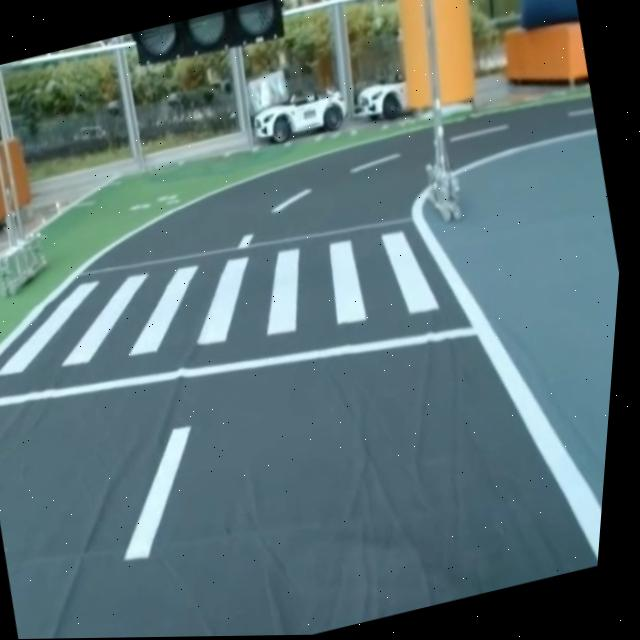traffic-light: (125, 0, 297, 75)
